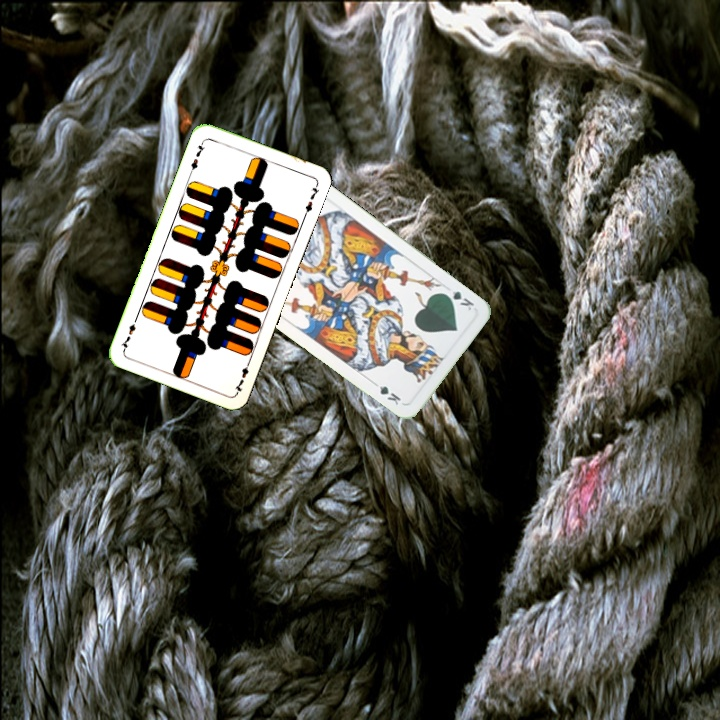E7: (230, 356, 253, 396), (186, 137, 207, 176)
GK: (439, 285, 477, 313)
